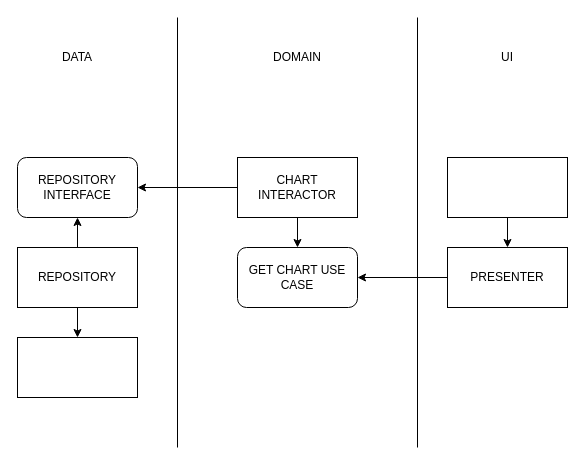
The diagram is 585 pixels wide and 466 high, and some of its shapes have lost their labels. The centre of each missing label's shape, as x and y in pixels:
NETWORK: the point at 77,367
VIEW: the point at 507,187
